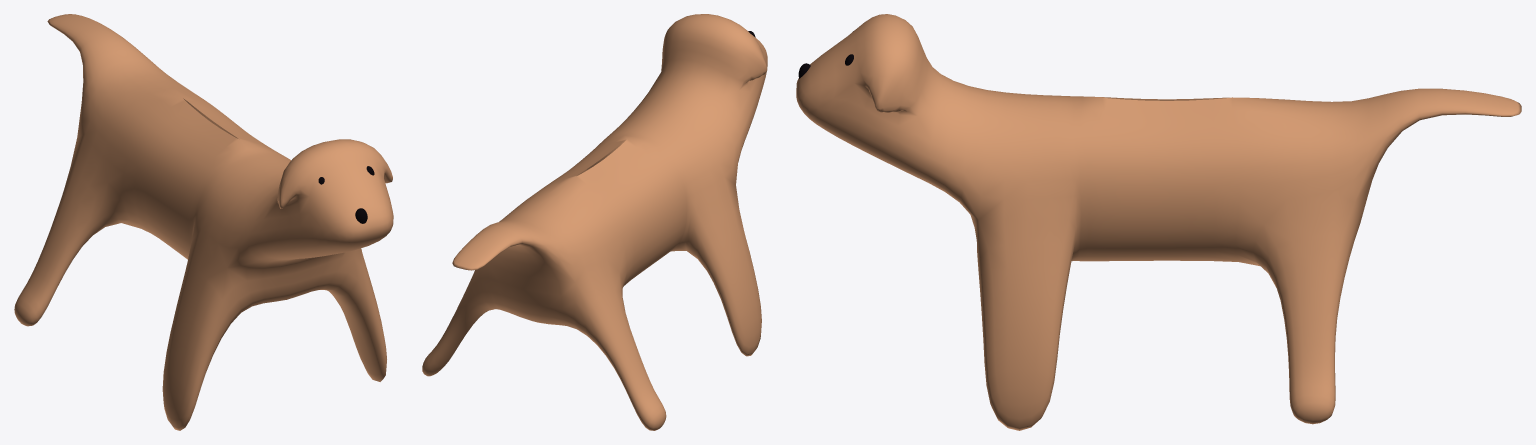
The model's file is Dog.fbx.
The picture shows the model from 3 angles, left to right: view 1: azimuth 30°, elevation 25°; view 2: azimuth 150°, elevation 25°; view 3: azimuth 270°, elevation 25°; orthographic projection. The views are drawn at different scales.
Parts seen in each view (by area): view 1: Cube; view 2: Cube; view 3: Cube.
Part boxes in pixels (bbox=[...]): Cube: bbox=[14, 14, 393, 430]; Cube: bbox=[422, 14, 767, 430]; Cube: bbox=[796, 14, 1521, 430].
Size of the model in its own units: 539 by 604 by 1129.
